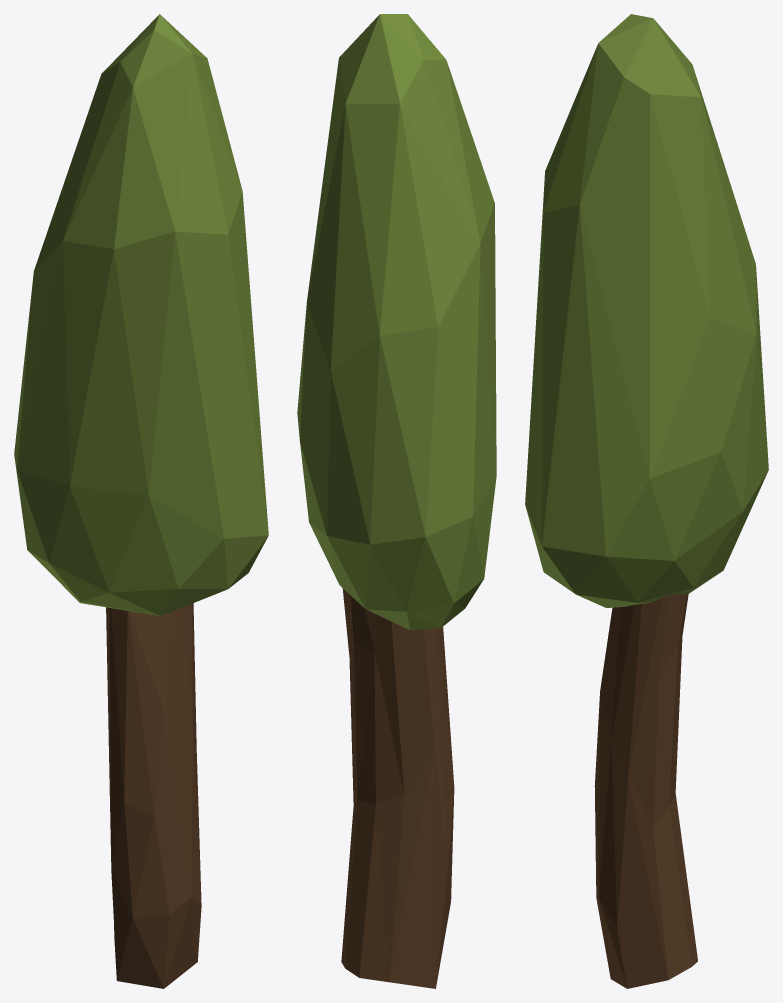
The model's file is Agac006.fbx.
3 renders of one model, left to right at view 1: azimuth 30°, elevation 25°; view 2: azimuth 150°, elevation 25°; view 3: azimuth 270°, elevation 25°, orthographic.
Visible parts, largest first — view 1: Icosphere.005, Agac006; view 2: Icosphere.005, Agac006; view 3: Icosphere.005, Agac006.
Boxes of the visible parts, x1,y1,x2,y2 form: Icosphere.005: (14, 14, 268, 615); Agac006: (106, 603, 201, 988); Icosphere.005: (297, 14, 496, 630); Agac006: (341, 588, 454, 988); Icosphere.005: (525, 14, 768, 607); Agac006: (594, 593, 697, 988).
Size of the model in its own units: 0.7106 by 0.7396 by 3.24.
